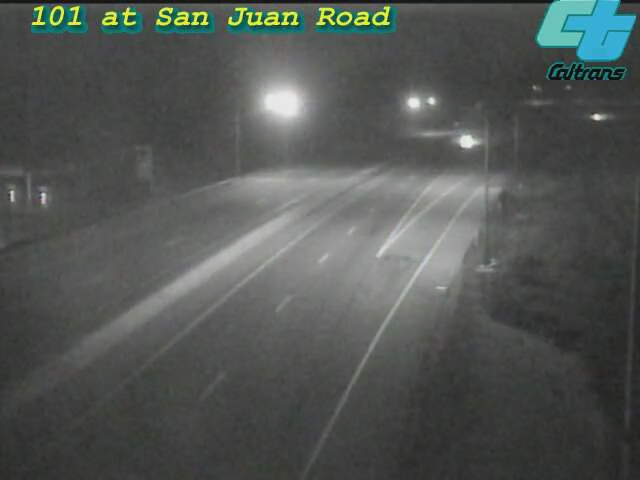vehicle: (569, 92, 619, 142), (444, 115, 494, 165)
